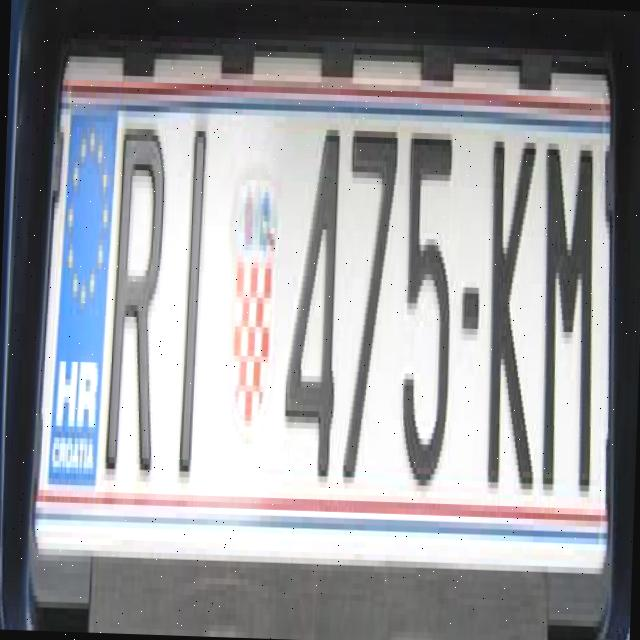Croatie: (47, 102, 118, 488)
EU: (34, 82, 609, 552)
